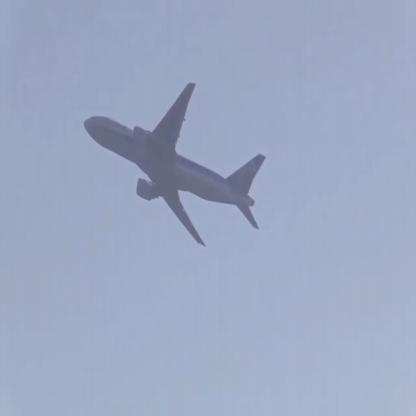CIV_Plane: (86, 82, 272, 246)
